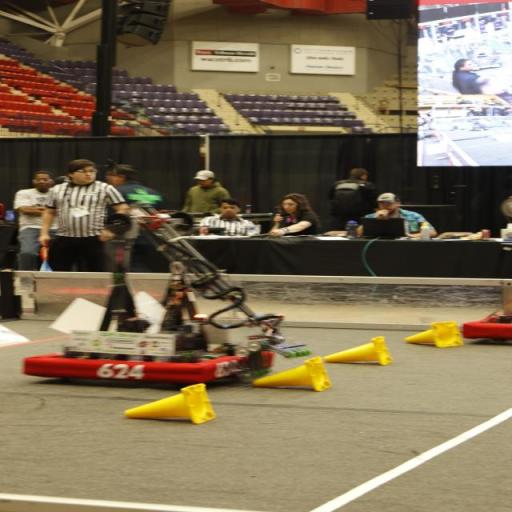robot: (8, 200, 286, 390), (457, 269, 512, 348)
